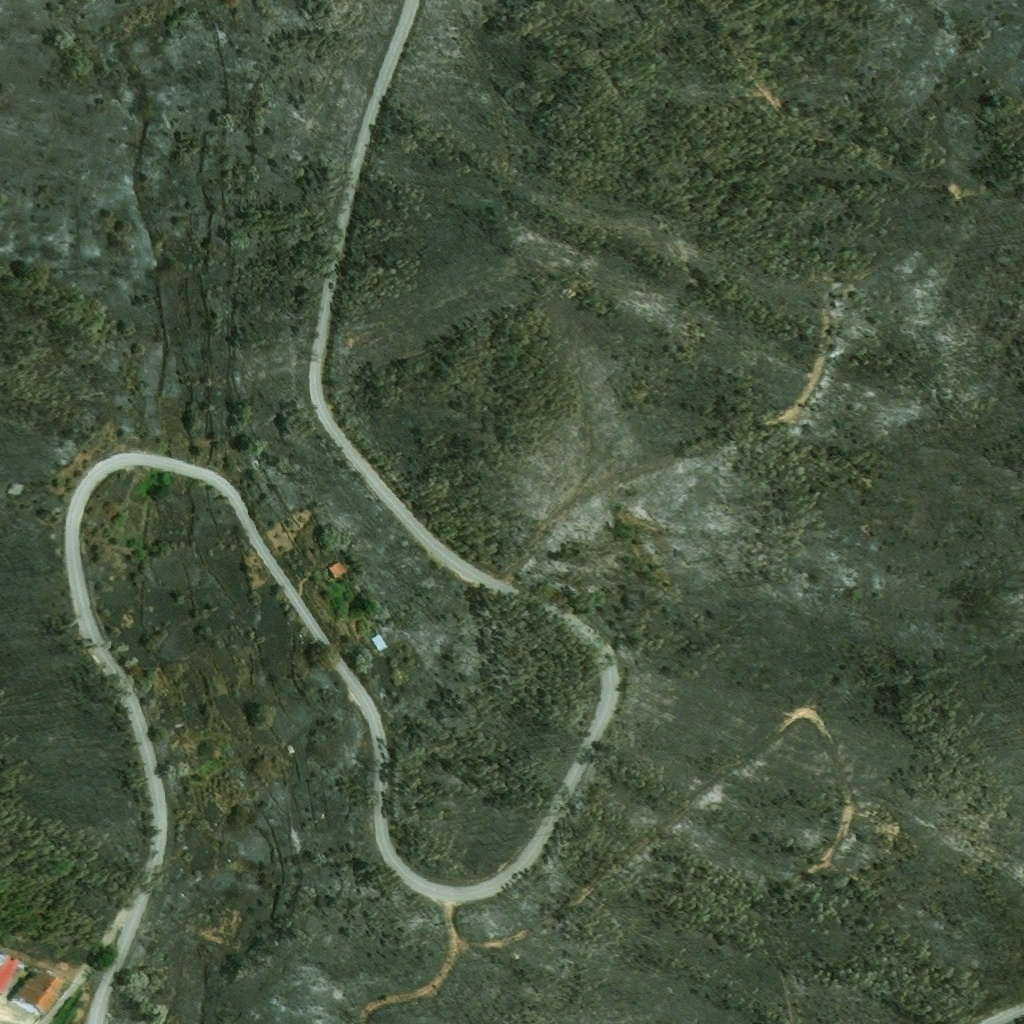0 no-damage: (5, 971, 65, 1019), (0, 956, 18, 997), (369, 633, 388, 652), (328, 562, 349, 578), (0, 954, 5, 964)
